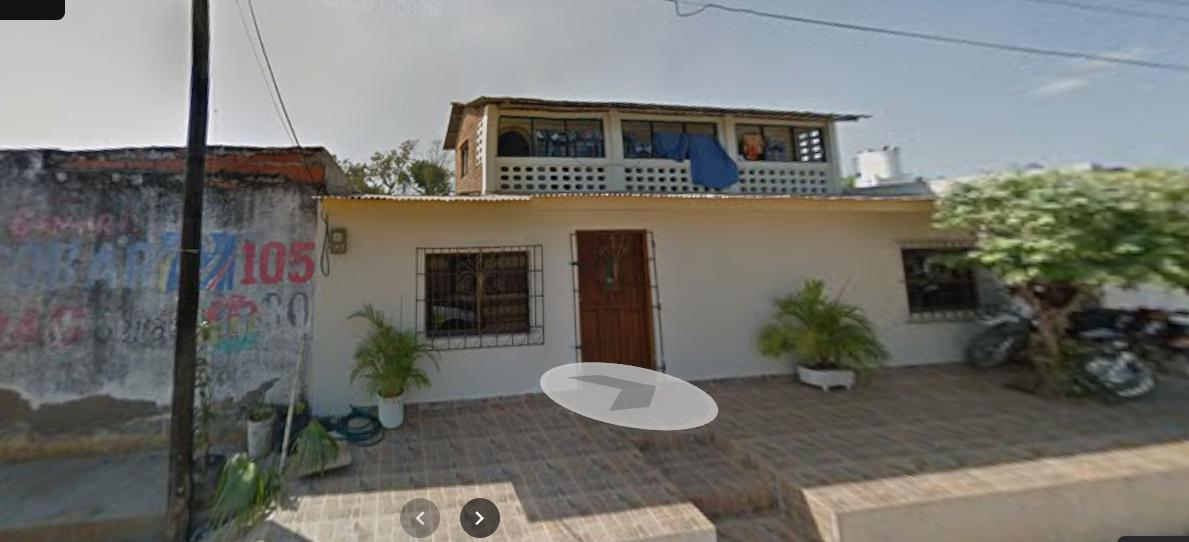casa: (307, 97, 1029, 428)
poste: (166, 0, 210, 541)
